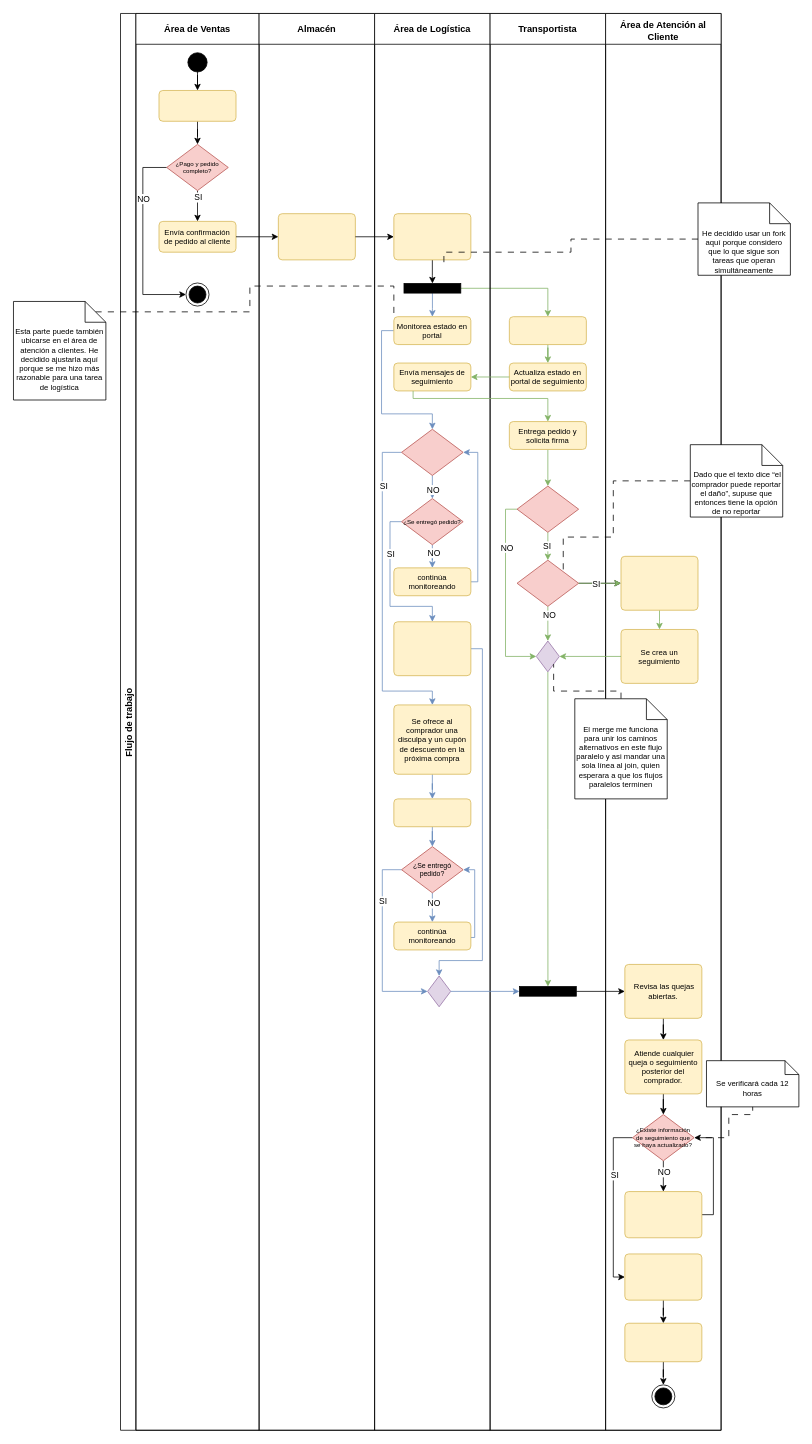
The diagram is 812 pixels wide and 1444 high, and some of its shapes have lost their labels. Here are the shapes that lost their labels. From the top down, the centre of each, then its label:
(197,105): Recibe pedido
(316,236): Prepara y embala el pedido
(432,236): Genera guía y entrega a transportista
(547,330): Traslada el pedido
(432,452): ¿Han pasado más de 5 días?
(547,508): ¿Pedido dañado?
(547,582): Se desea reportar daño
(659,583): proporciona una guía para el procedimiento de devolución o cambio sin costo
(432,648): Se agradece via correo al comprador por su preferencia
(432,812): Se inicia protocolo de seguimiento frecuente
(663,1214): Se comunica con el comprador para aclararle cualquier duda.
(663,1276): el comprador recibe mensajes
(663,1342): Resuelve y archiva el folio del comprobante de atención
